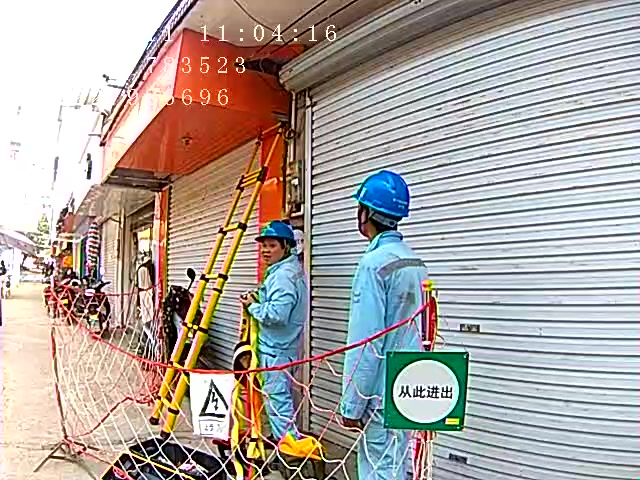downsuit: (263, 360, 306, 445), (358, 429, 410, 480)
halt: (354, 171, 412, 234), (256, 221, 299, 262)
hand: (240, 294, 253, 307)
inear: (358, 205, 374, 232), (280, 239, 292, 257)
intosign: (386, 351, 463, 428)
person: (342, 167, 466, 480), (240, 218, 313, 453)
upsuit: (345, 232, 438, 422), (253, 258, 309, 357)
